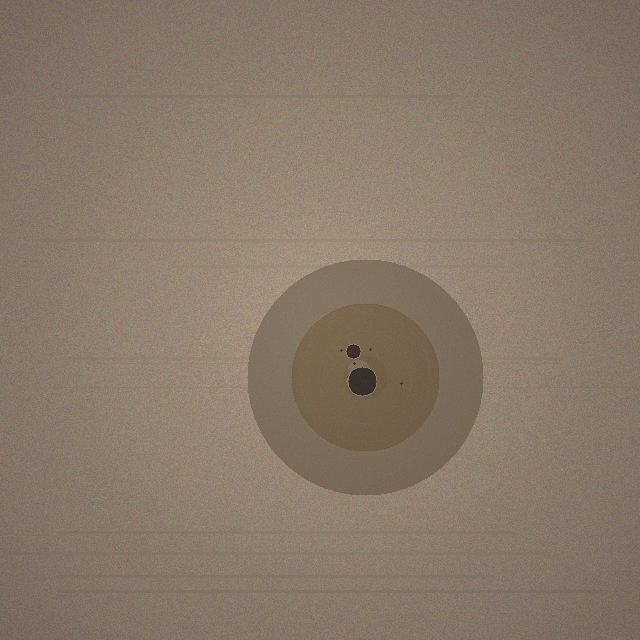shrinkage: (247, 259, 483, 495)
